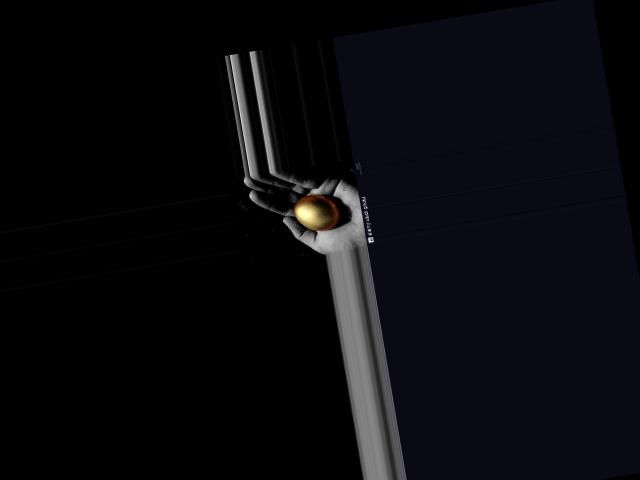egg: (291, 190, 341, 234)
